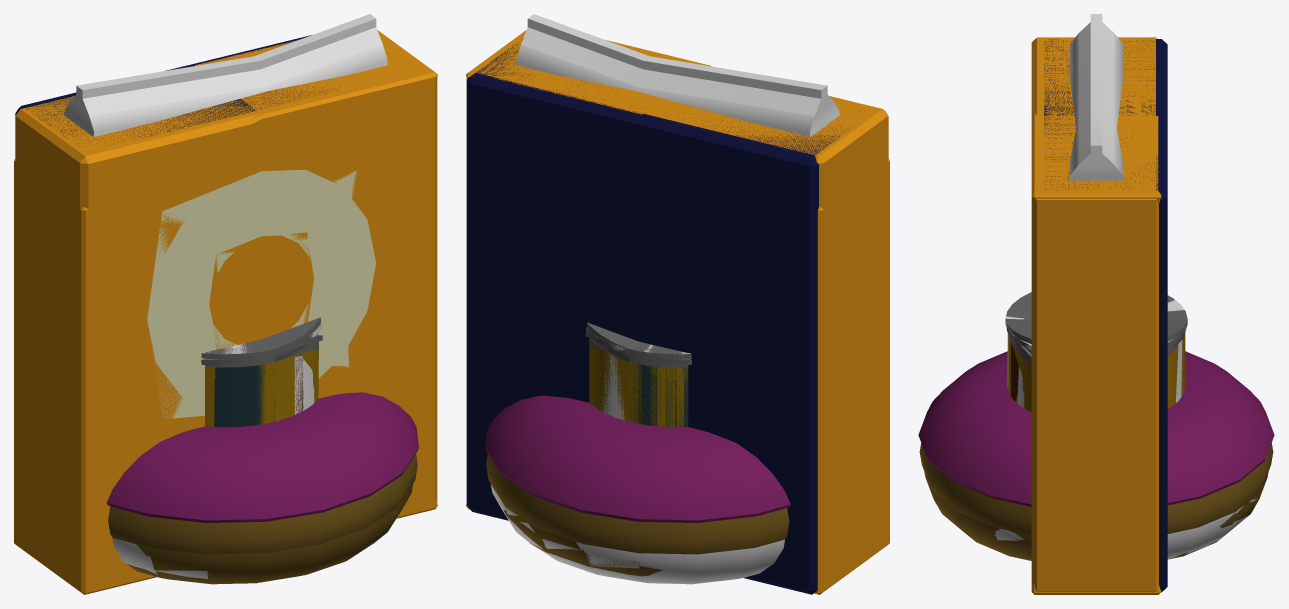
File: PackingObjects.fbx
3 views of the same model, side by side, from view 1: azimuth 30°, elevation 25°; view 2: azimuth 150°, elevation 25°; view 3: azimuth 270°, elevation 25° (orthographic). The views are drawn at different scales.
Visible parts, largest first — view 1: SM_Cereal_Cheerios, SM_Cereal_Damaged, SM_Cereal_MissPrint, SM_Donut_Holeless, SM_Cereal_Bag, SM_Donut_Homer, SM_Can_Beans, SM_Can_Hoops, SM_Cereal_Shreddies, SM_Donut_MonstersInc, SM_Can_Crushed, SM_Can_NoLabel (+4 smaller); view 2: SM_Cereal_Shreddies, SM_Donut_Holeless, SM_Cereal_Damaged, SM_Cereal_Bag, SM_Cereal_Cheerios, SM_Donut_Plain, SM_Can_Hoops, SM_Can_Beans, SM_Can_Crushed, SM_Can_Dented, SM_Can_NoLabel, SM_Can_Sauce (+2 smaller); view 3: SM_Cereal_Cheerios, SM_Cereal_MissPrint, SM_Donut_Holeless, SM_Cereal_Bag, SM_Cereal_Shreddies, SM_Cereal_Damaged, SM_Donut_Plain, SM_Donut_MonstersInc, SM_Can_Dented, SM_Can_NoLabel, SM_Can_Crushed, SM_Can_Sauce (+2 smaller).
Boxes of the visible parts, bbox=[...] form: SM_Cereal_Cheerios: bbox=[15, 33, 435, 589]; SM_Cereal_Damaged: bbox=[14, 30, 437, 594]; SM_Cereal_MissPrint: bbox=[18, 33, 437, 589]; SM_Donut_Holeless: bbox=[106, 392, 418, 554]; SM_Cereal_Bag: bbox=[64, 14, 387, 136]; SM_Donut_Homer: bbox=[130, 508, 398, 584]; SM_Can_Beans: bbox=[204, 324, 320, 427]; SM_Can_Hoops: bbox=[205, 339, 295, 426]; SM_Cereal_Shreddies: bbox=[15, 35, 338, 145]; SM_Donut_MonstersInc: bbox=[127, 484, 413, 583]; SM_Can_Crushed: bbox=[201, 317, 320, 364]; SM_Can_NoLabel: bbox=[203, 324, 321, 417]; SM_Cereal_Shreddies: bbox=[466, 41, 848, 594]; SM_Donut_Holeless: bbox=[485, 395, 790, 554]; SM_Cereal_Damaged: bbox=[466, 30, 889, 594]; SM_Cereal_Bag: bbox=[516, 14, 839, 136]; SM_Cereal_Cheerios: bbox=[472, 33, 888, 309]; SM_Donut_Plain: bbox=[490, 484, 784, 584]; SM_Can_Hoops: bbox=[599, 338, 688, 427]; SM_Can_Beans: bbox=[586, 328, 688, 427]; SM_Can_Crushed: bbox=[586, 322, 692, 364]; SM_Can_Dented: bbox=[585, 331, 691, 423]; SM_Can_NoLabel: bbox=[596, 336, 690, 420]; SM_Can_Sauce: bbox=[586, 328, 644, 413]; SM_Cereal_Cheerios: bbox=[1031, 37, 1158, 591]; SM_Cereal_MissPrint: bbox=[1031, 37, 1158, 591]; SM_Donut_Holeless: bbox=[918, 351, 1274, 535]; SM_Cereal_Bag: bbox=[1069, 14, 1123, 180]; SM_Cereal_Shreddies: bbox=[1044, 39, 1167, 592]; SM_Cereal_Damaged: bbox=[1031, 113, 1161, 594]; SM_Donut_Plain: bbox=[994, 472, 1268, 559]; SM_Donut_MonstersInc: bbox=[944, 502, 1249, 560]; SM_Can_Dented: bbox=[1007, 326, 1180, 412]; SM_Can_NoLabel: bbox=[1005, 300, 1185, 408]; SM_Can_Crushed: bbox=[1005, 318, 1187, 352]; SM_Can_Sauce: bbox=[1010, 293, 1187, 410].
Bounding box in the file's own units: 19.13 × 24.37 × 17.99.
